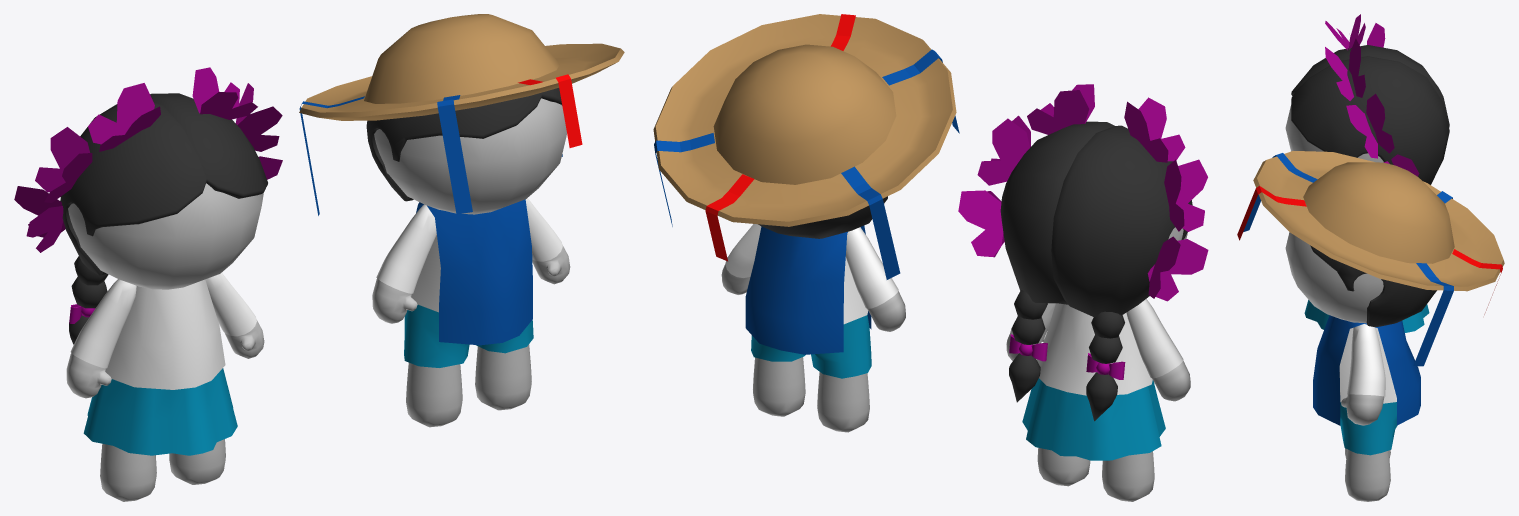
File: kanica.gltf
3 views of the same model, side by side, from view 1: azimuth 30°, elevation 25°; view 2: azimuth 150°, elevation 25°; view 3: azimuth 270°, elevation 25° (orthographic). The views are drawn at different scales.
Parts seen in each view (by area): view 1: B_Sombrero001, G_Hair (1), G_Camisa, B_Gaban001, G_Head, B_Head001, G_Skirt001, B_Camisa001, B_Hair001, B_Pants001, Leg_R001, Leg_L001 (+16 smaller); view 2: B_Sombrero001, G_Hair (1), B_Gaban001, G_Skirt001, G_Camisa, B_Camisa001, B_Pants001, Leg_L001, Leg_R001, Leg_R, Plane006, Plane004 (+17 smaller); view 3: B_Sombrero001, G_Hair (1), B_Gaban001, B_Head001, B_Camisa001, B_Hair001, Leg_L001, B_Pants001, Arm_L001, Plane004, G_Skirt001, G_Head (+6 smaller).
Boxes of the visible parts, <box> form: B_Sombrero001: <box>299,14,624,215</box>; G_Hair (1): <box>60,93,267,275</box>; G_Camisa: <box>70,272,256,389</box>; B_Gaban001: <box>416,199,532,345</box>; G_Head: <box>68,183,263,289</box>; B_Head001: <box>374,98,566,214</box>; G_Skirt001: <box>83,368,237,455</box>; B_Camisa001: <box>376,198,562,312</box>; B_Hair001: <box>366,88,562,201</box>; B_Pants001: <box>404,304,533,367</box>; Leg_R001: <box>406,362,462,427</box>; Leg_L001: <box>475,344,531,410</box>; B_Sombrero001: <box>653,14,959,279</box>; G_Hair (1): <box>1000,121,1192,316</box>; B_Gaban001: <box>745,225,871,354</box>; G_Skirt001: <box>1022,378,1165,460</box>; G_Camisa: <box>1010,299,1183,395</box>; B_Camisa001: <box>725,224,898,324</box>; B_Pants001: <box>751,314,871,378</box>; Leg_L001: <box>753,357,805,416</box>; Leg_R001: <box>817,372,869,432</box>; Leg_R: <box>1102,451,1154,501</box>; Plane006: <box>958,190,1004,256</box>; Plane004: <box>977,118,1029,185</box>; B_Sombrero001: <box>1237,151,1504,366</box>; G_Hair (1): <box>1291,45,1449,184</box>; B_Gaban001: <box>1313,315,1420,425</box>; B_Head001: <box>1285,232,1383,323</box>; B_Camisa001: <box>1339,324,1396,403</box>; B_Hair001: <box>1310,245,1436,327</box>; Leg_L001: <box>1345,449,1390,501</box>; B_Pants001: <box>1340,402,1397,455</box>; Arm_L001: <box>1341,394,1384,425</box>; Plane004: <box>1366,93,1394,153</box>; G_Skirt001: <box>1304,300,1429,332</box>; G_Head: <box>1285,105,1383,162</box>.
Size of the model in its own units: 1.59 by 1.1 by 0.7918.
